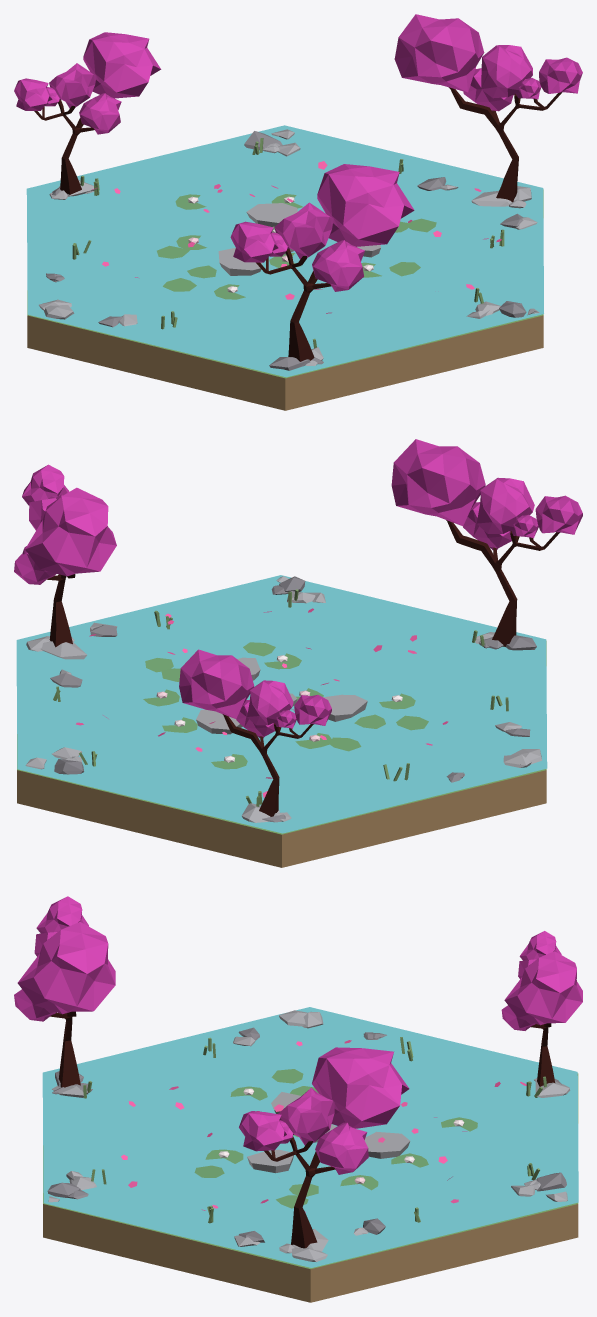
Rendered from pond_keystone_sprint2.glb.
3 renders of one model, top to bottom at view 1: azimuth 30°, elevation 25°; view 2: azimuth 150°, elevation 25°; view 3: azimuth 270°, elevation 25°, orthographic. The views are drawn at different scales.
Visible parts, largest first — view 1: Circle, FullBase, Tree_Full1_Icosphere.008, Tree_Full1_Icosphere, Tree_Full1_Icosphere.013, Tree_Full1_Icosphere.003, Tree_Full1_Icosphere.006, Tree_Full1_Icosphere.009, Tree_Full1_Cube, Tree_Full1_Cube.001, Tree_Full1_Icosphere.007, Tree_Full1_Icosphere.001 (+7 smaller); view 2: Circle, FullBase, Tree_Full1_Icosphere.008, Tree_Full1_Icosphere, Tree_Full1_Icosphere.013, Tree_Full1_Icosphere.006, Tree_Full1_Cube.001, Tree_Full1_Icosphere.011, Tree_Full1_Icosphere.007, Tree_Full1_Cube.002, Tree_Full1_Icosphere.001, Tree_Full1_Cube (+6 smaller); view 3: Circle, FullBase, Tree_Full1_Icosphere.008, Tree_Full1_Icosphere, Tree_Full1_Icosphere.013, Tree_Full1_Icosphere.003, Tree_Full1_Icosphere.004, Tree_Full1_Cube, Tree_Full1_Icosphere.001, Tree_Full1_Icosphere.007, Tree_Full1_Cube.001, FlatStone_703 (+4 smaller).
Part boxes in pixels (left/top/right/bottom): Circle: left=26, top=125, right=543, bottom=377; FullBase: left=27, top=189, right=543, bottom=410; Tree_Full1_Icosphere.008: left=317, top=164, right=414, bottom=246; Tree_Full1_Icosphere: left=394, top=14, right=484, bottom=92; Tree_Full1_Icosphere.013: left=83, top=32, right=161, bottom=98; Tree_Full1_Icosphere.003: left=481, top=45, right=532, bottom=98; Tree_Full1_Icosphere.006: left=274, top=202, right=333, bottom=259; Tree_Full1_Icosphere.009: left=312, top=240, right=364, bottom=291; Tree_Full1_Cube: left=449, top=87, right=561, bottom=202; Tree_Full1_Cube.001: left=256, top=249, right=331, bottom=361; Tree_Full1_Icosphere.007: left=230, top=221, right=278, bottom=262; Tree_Full1_Icosphere.001: left=539, top=57, right=582, bottom=93; Circle: left=16, top=575, right=547, bottom=833; FullBase: left=17, top=641, right=546, bottom=867; Tree_Full1_Icosphere.008: left=391, top=439, right=485, bottom=526; Tree_Full1_Icosphere: left=25, top=487, right=116, bottom=576; Tree_Full1_Icosphere.013: left=179, top=649, right=254, bottom=718; Tree_Full1_Icosphere.006: left=476, top=477, right=534, bottom=533; Tree_Full1_Cube.001: left=446, top=520, right=559, bottom=646; Tree_Full1_Icosphere.011: left=247, top=680, right=293, bottom=725; Tree_Full1_Icosphere.007: left=535, top=495, right=582, bottom=534; Tree_Full1_Cube.002: left=222, top=714, right=313, bottom=816; Tree_Full1_Icosphere.001: left=22, top=464, right=69, bottom=505; Tree_Full1_Cube: left=47, top=574, right=75, bottom=647; Circle: left=42, top=1007, right=578, bottom=1267; FullBase: left=43, top=1073, right=578, bottom=1302; Tree_Full1_Icosphere.008: left=17, top=922, right=115, bottom=1014; Tree_Full1_Icosphere: left=312, top=1047, right=409, bottom=1128; Tree_Full1_Icosphere.013: left=504, top=951, right=582, bottom=1025; Tree_Full1_Icosphere.003: left=278, top=1087, right=334, bottom=1145; Tree_Full1_Icosphere.004: left=315, top=1122, right=368, bottom=1174; Tree_Full1_Cube: left=264, top=1136, right=335, bottom=1248; Tree_Full1_Icosphere.001: left=239, top=1111, right=286, bottom=1151; Tree_Full1_Icosphere.007: left=36, top=896, right=88, bottom=933; Tree_Full1_Cube.001: left=50, top=1011, right=80, bottom=1087; FlatStone_703: left=364, top=1131, right=410, bottom=1158.
Size of the model in its own units: 5.15 by 1.93 by 4.6.
